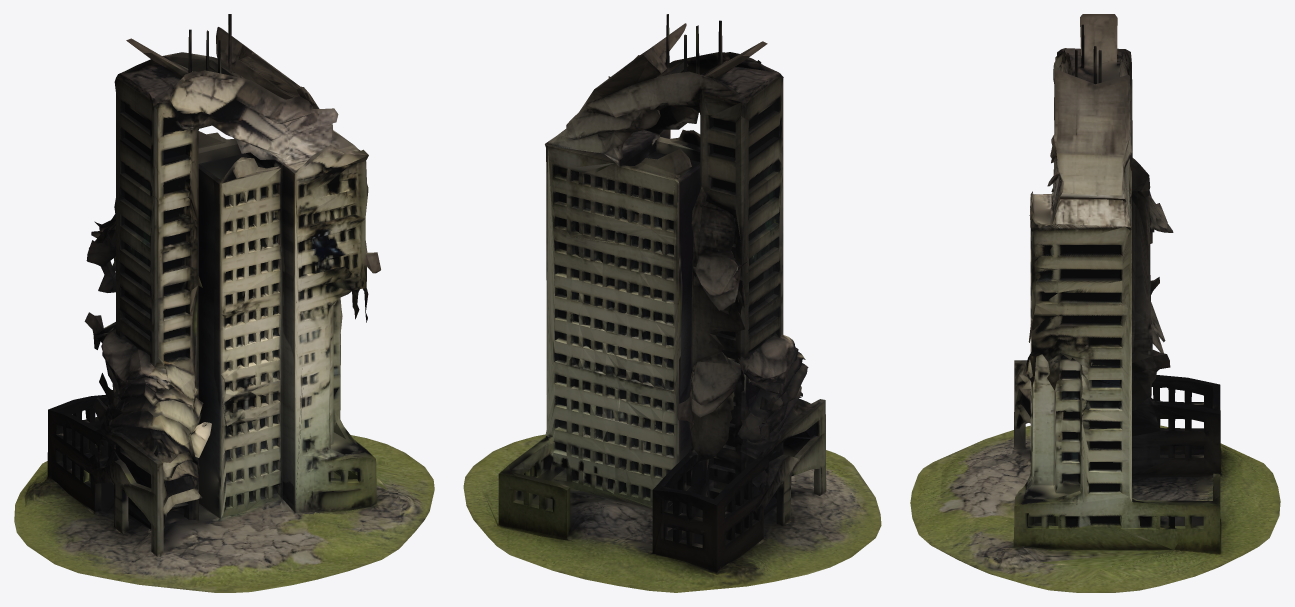
3 renders of one model, left to right at view 1: azimuth 30°, elevation 25°; view 2: azimuth 150°, elevation 25°; view 3: azimuth 270°, elevation 25°, orthographic. The views are drawn at different scales.
Visible parts, largest first — view 1: node_0.027; view 2: node_0.027; view 3: node_0.027.
Part boxes in pixels (x1=…): node_0.027: x1=14, y1=14, x2=434, y2=592; node_0.027: x1=463, y1=14, x2=881, y2=592; node_0.027: x1=910, y1=14, x2=1280, y2=592.
Size of the model in its own units: 4.46 by 5.53 by 4.02.
1 material, 1 textured.
